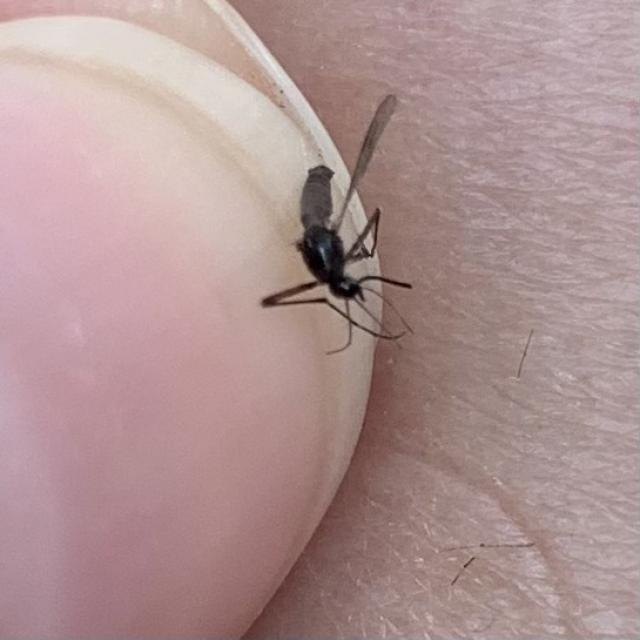albopictus: (250, 91, 422, 371)
